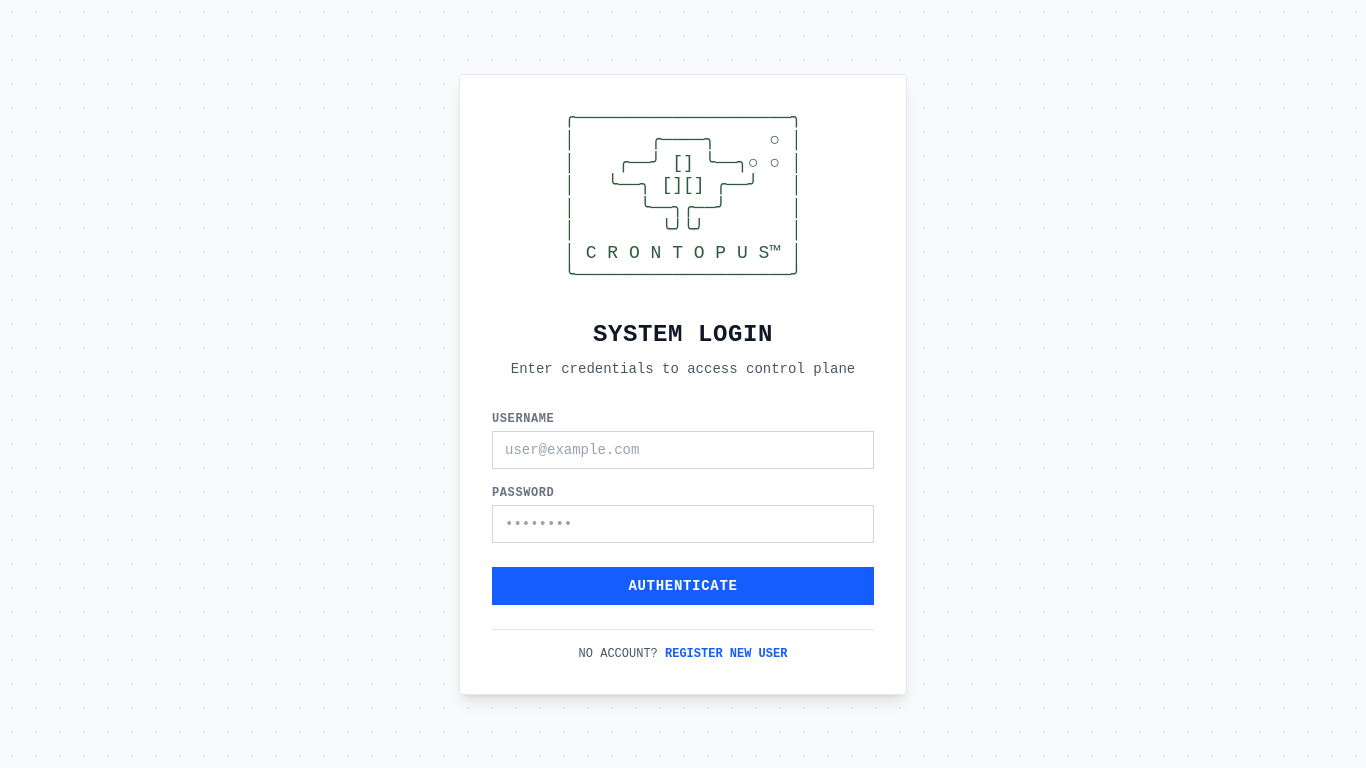
Test: Login Page › displays error message on failed login
Type "testuser" into the field labelled "Username" at [683, 450], box [492,430,874,468]
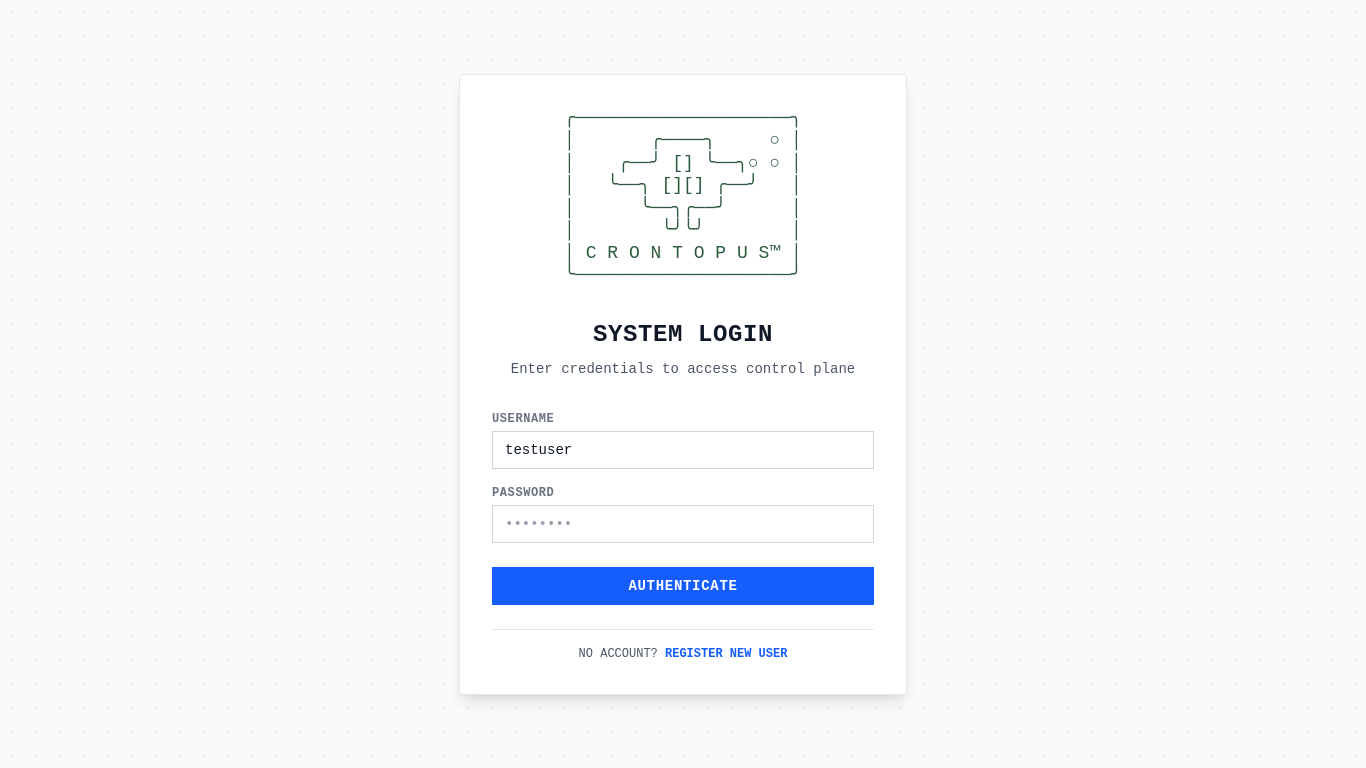
Type "password123" into the password field labelled "Password" at [683, 524], box [492,504,874,542]
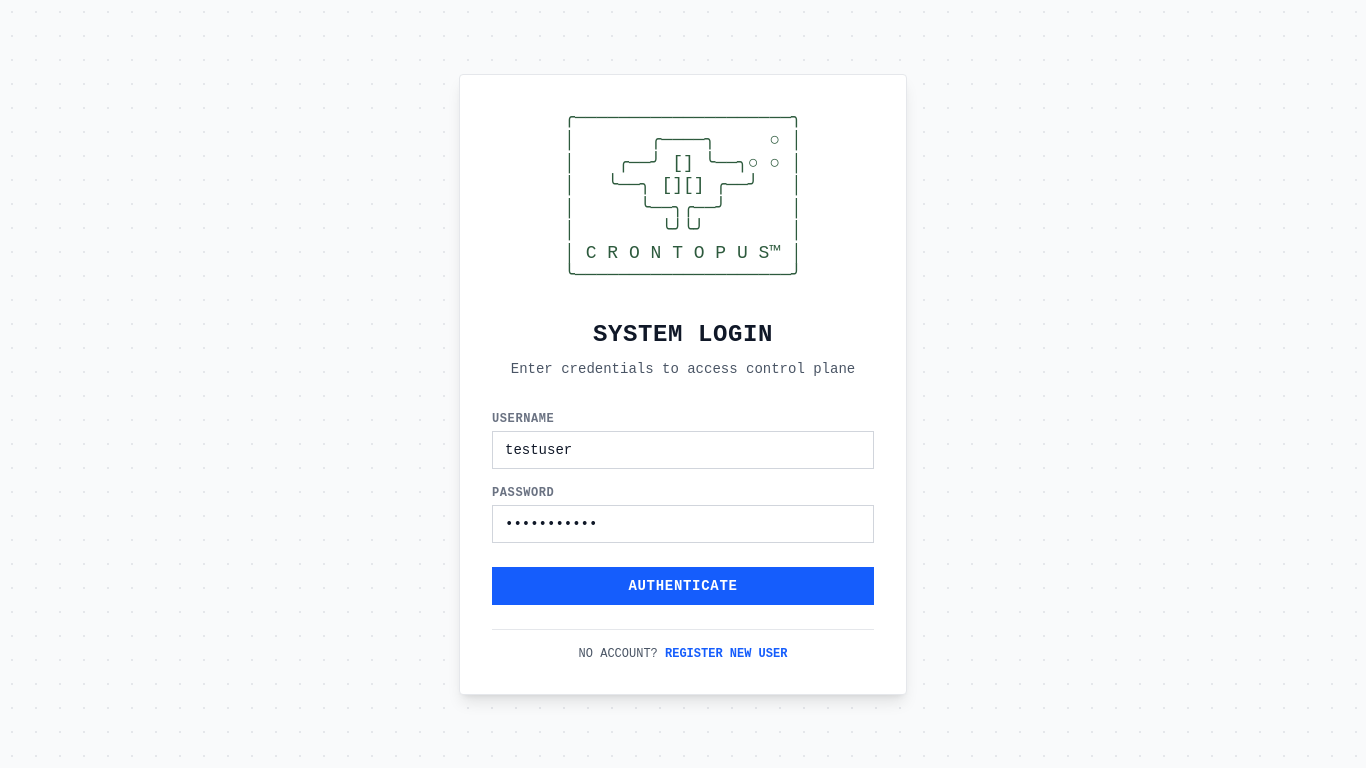
Click the button "AUTHENTICATE" at [683, 586], box [492,566,874,604]
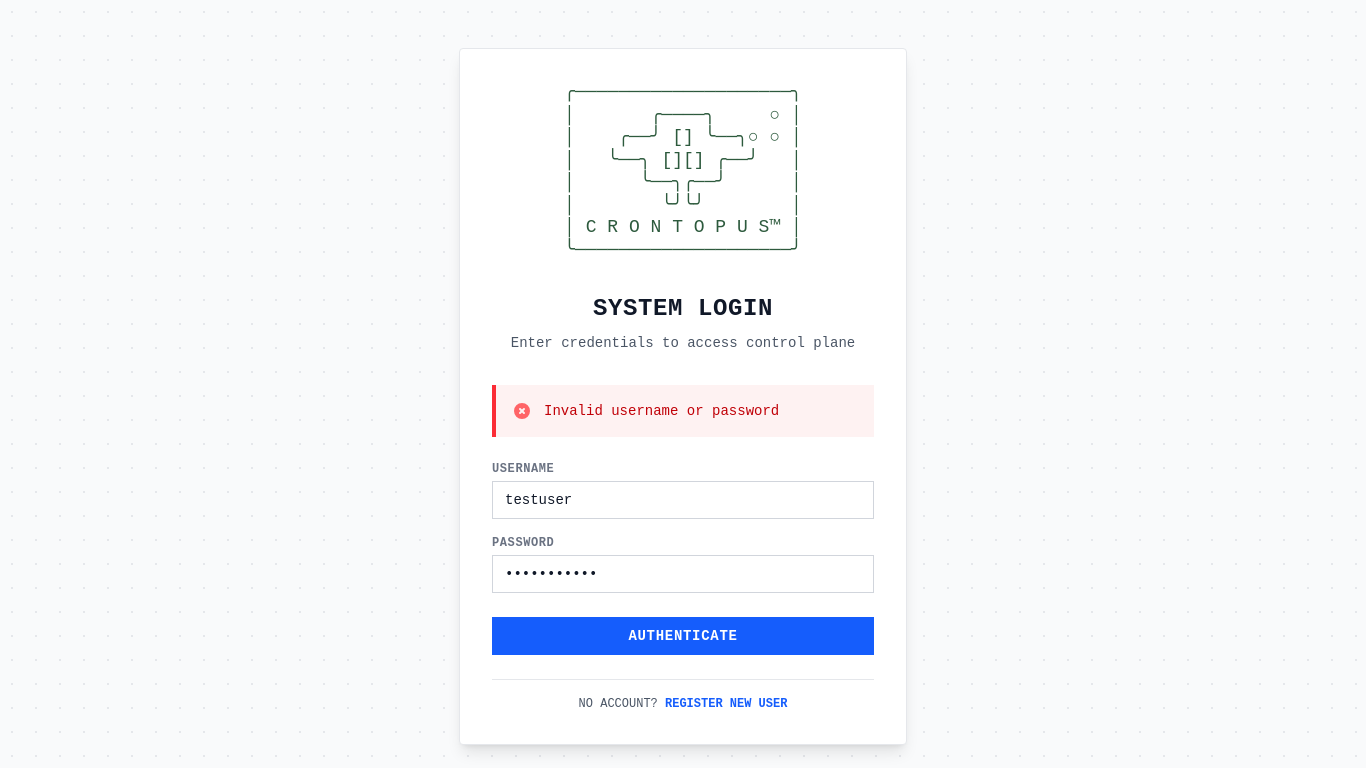
Now the text "Invalid username or password" is shown, box [544,401,779,421]
